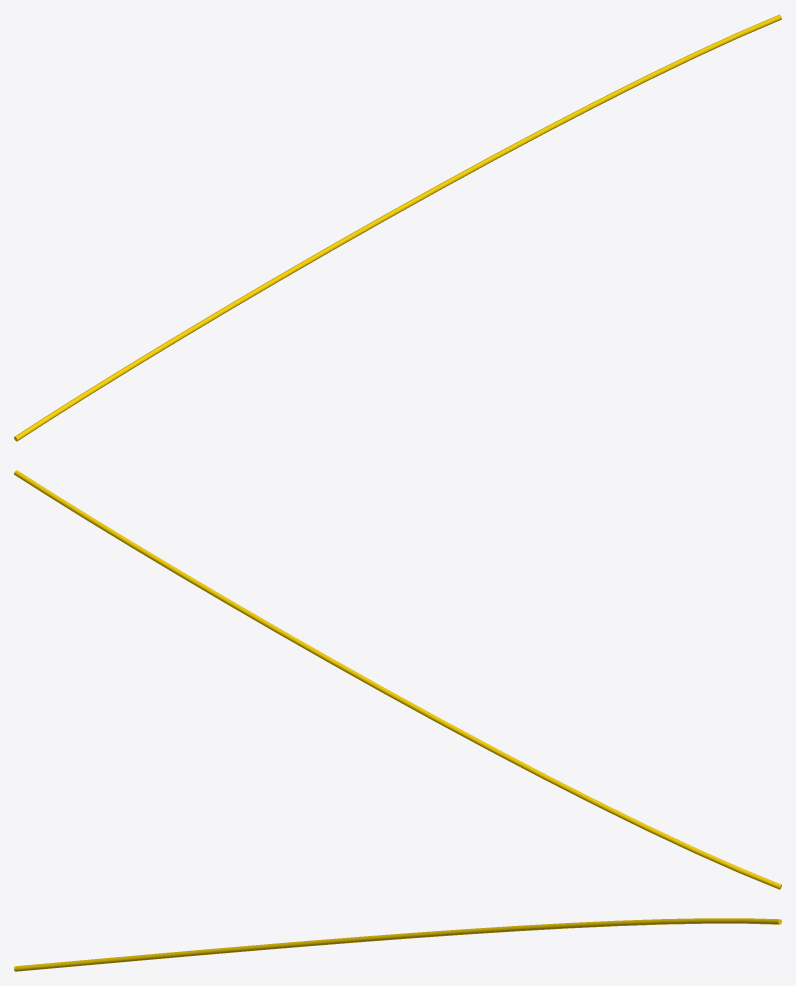
The model's file is Event_421115418_track_34.fbx.
The picture shows the model from 3 angles, top to bottom: view 1: azimuth 30°, elevation 25°; view 2: azimuth 150°, elevation 25°; view 3: azimuth 330°, elevation 25°; orthographic projection.
Visible parts, largest first — view 1: Model; view 2: Model; view 3: Model.
Part boxes in pixels (box(x1,y1,x2,y2)): Model: box(14, 14, 781, 441); Model: box(14, 470, 781, 889); Model: box(14, 918, 781, 971).
Bounding box in the file's own units: 6.38 × 1.88 × 0.2647.
